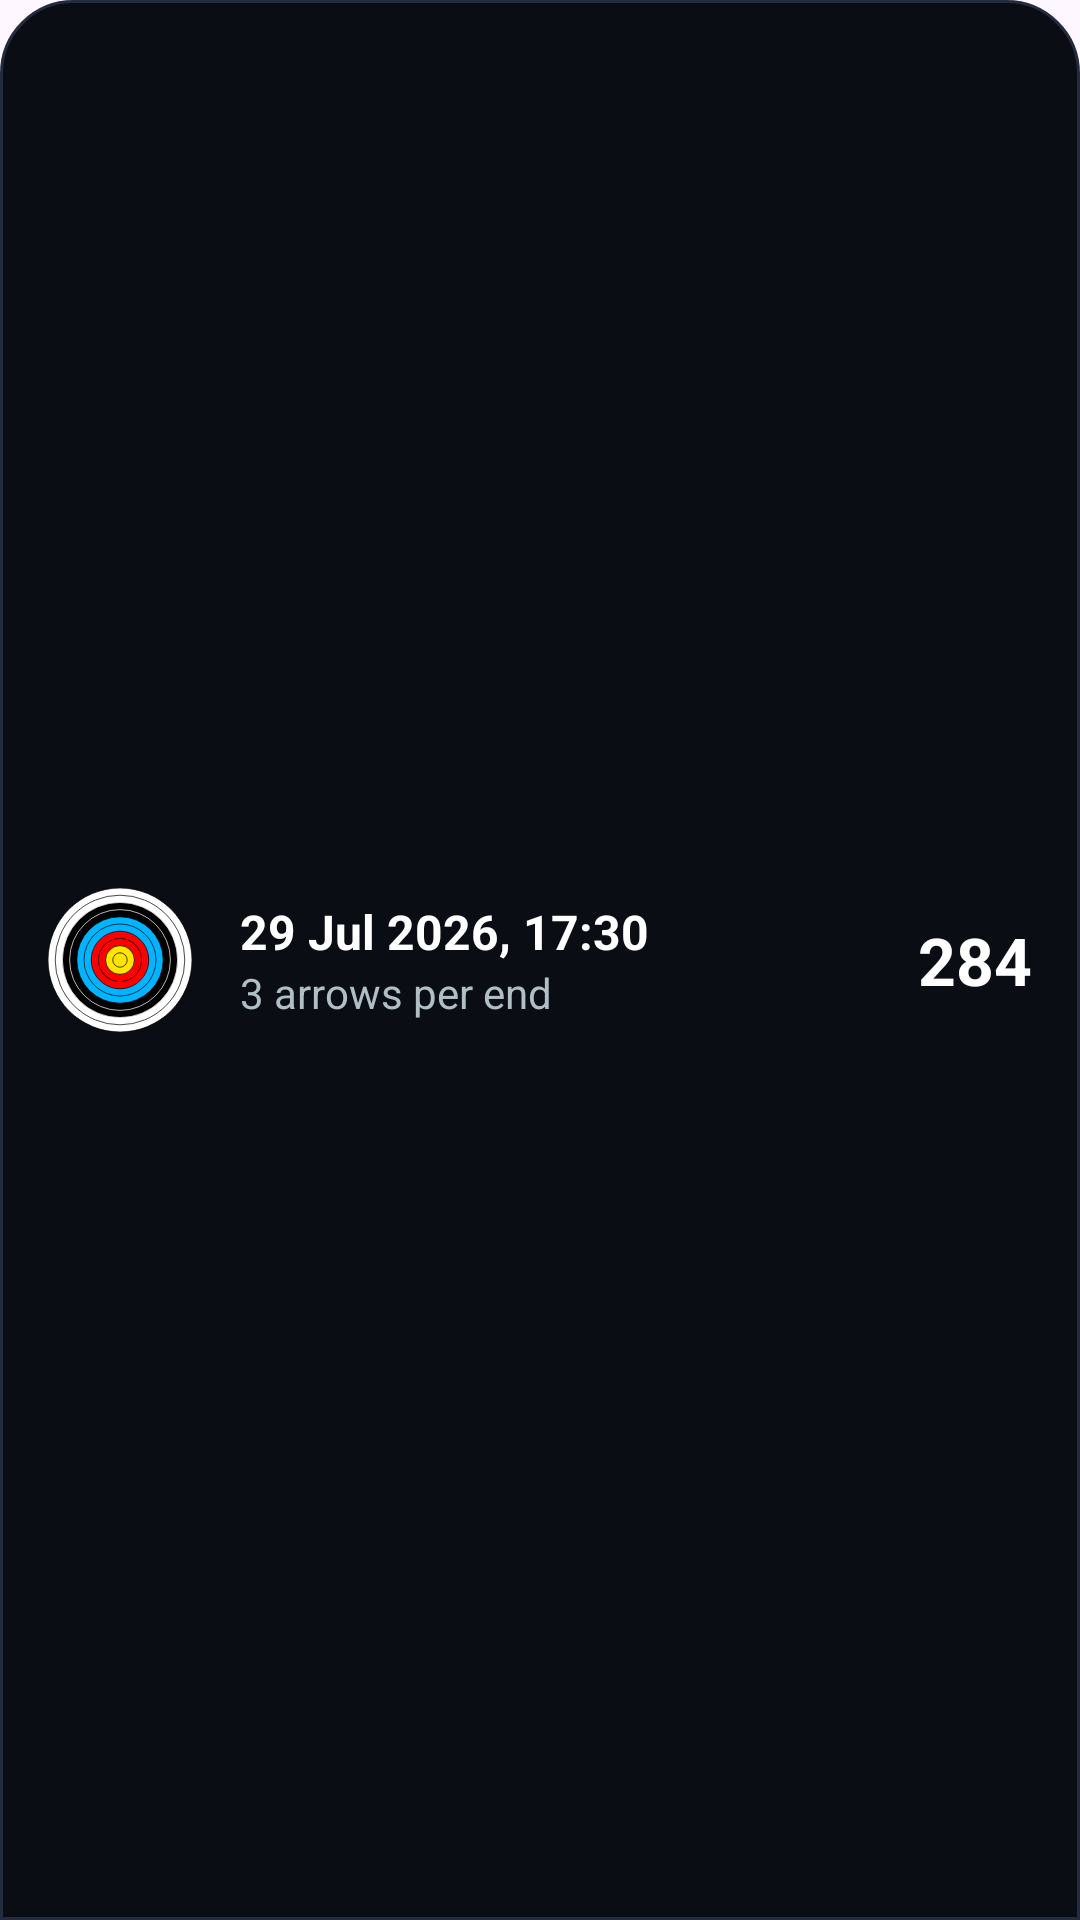

Where to tap for icons on this 1080x1920 app screen, as [x,y]:
target ring: [120,960]
